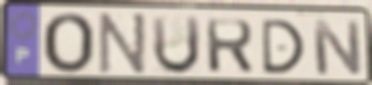D: (259, 18, 307, 76)
N: (96, 12, 149, 79), (310, 18, 364, 77)
O: (40, 12, 98, 77)
R: (204, 18, 256, 76)
U: (150, 14, 202, 77)
